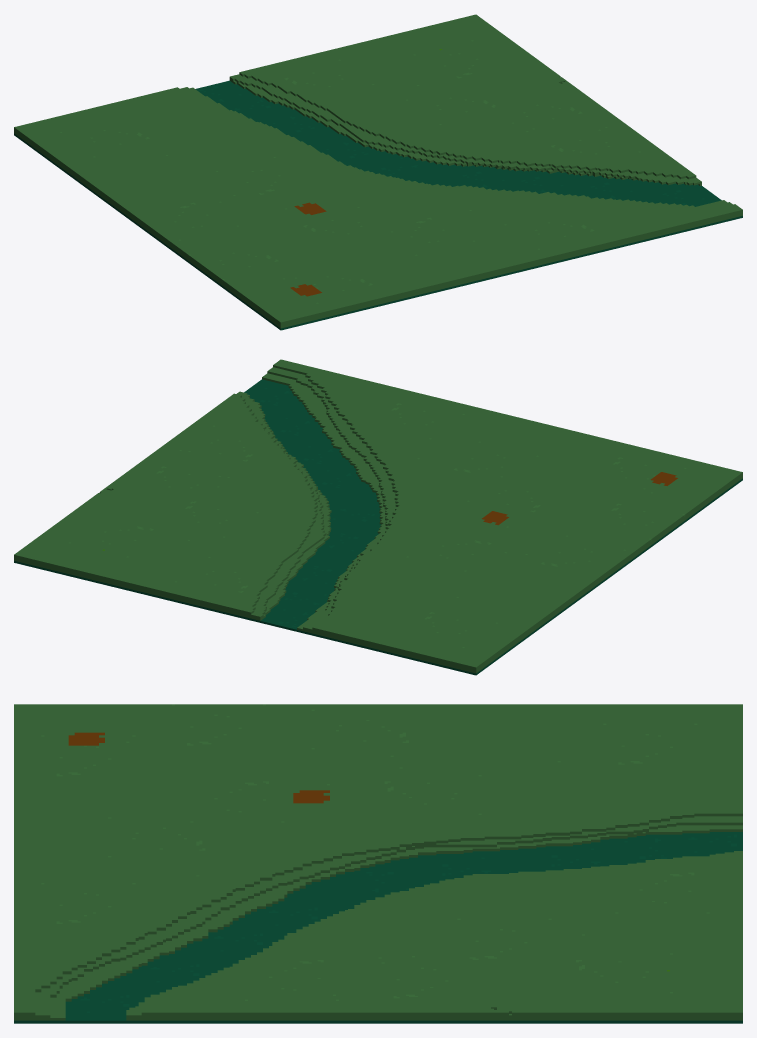
The model's file is bosque.obj.
The picture shows the model from 3 angles, top to bottom: view 1: azimuth 30°, elevation 25°; view 2: azimuth 150°, elevation 25°; view 3: azimuth 270°, elevation 25°; orthographic projection. The views are drawn at different scales.
Bounding box in the file's own units: 24 × 0.4 × 24.
Materials: 1 (1 with a texture image).
